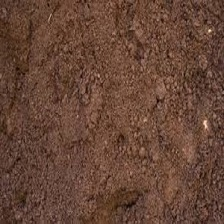loamy_soil: (13, 20, 213, 200)
